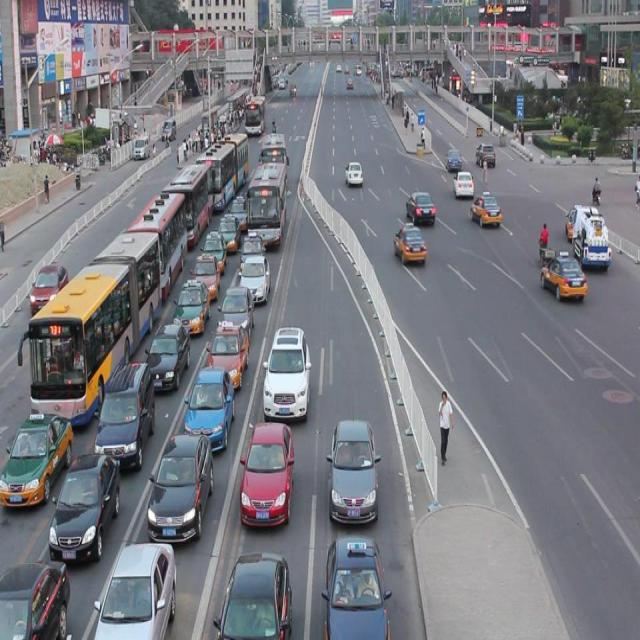bus: (572, 205, 609, 270)
car: (94, 538, 175, 640), (48, 452, 120, 554), (321, 535, 389, 640), (148, 428, 213, 536), (214, 551, 290, 640), (0, 411, 70, 503), (94, 358, 154, 461), (0, 554, 68, 640), (327, 417, 380, 517), (240, 422, 294, 517), (262, 325, 310, 415), (185, 364, 233, 442), (146, 317, 189, 386), (205, 320, 248, 384), (541, 248, 586, 302), (218, 284, 254, 339), (174, 278, 210, 330), (31, 264, 70, 310), (393, 222, 426, 264), (241, 252, 270, 298), (190, 250, 220, 294), (469, 190, 501, 227), (200, 229, 226, 269), (405, 190, 434, 225), (240, 228, 263, 270), (216, 210, 239, 246), (227, 191, 250, 226), (82, 260, 107, 292), (564, 204, 586, 240), (452, 172, 473, 198), (474, 141, 494, 168), (344, 160, 362, 186), (444, 148, 460, 172)
van: (16, 230, 160, 421), (123, 187, 186, 296), (197, 125, 247, 203), (247, 162, 286, 250), (168, 158, 208, 241), (261, 133, 289, 187)
